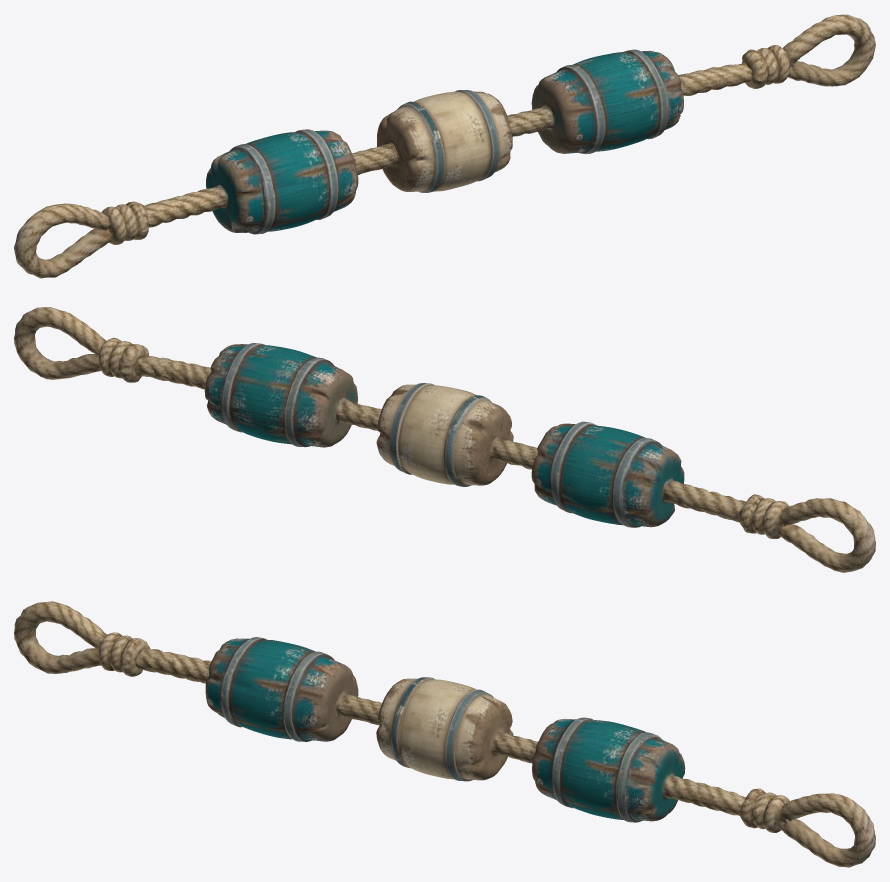
Rendered from tidewake_rope_float_line.glb.
3 renders of one model, top to bottom at view 1: azimuth 30°, elevation 25°; view 2: azimuth 150°, elevation 25°; view 3: azimuth 330°, elevation 25°, orthographic.
Visible parts, largest first — view 1: Mesh_0; view 2: Mesh_0; view 3: Mesh_0.
Part boxes in pixels (box(x1,y1,x2,y2)): Mesh_0: box(14, 14, 875, 278); Mesh_0: box(14, 307, 875, 572); Mesh_0: box(14, 601, 875, 867).
Size of the model in its own units: 1.9 by 0.1841 by 0.1892.
1 material, 1 textured.
